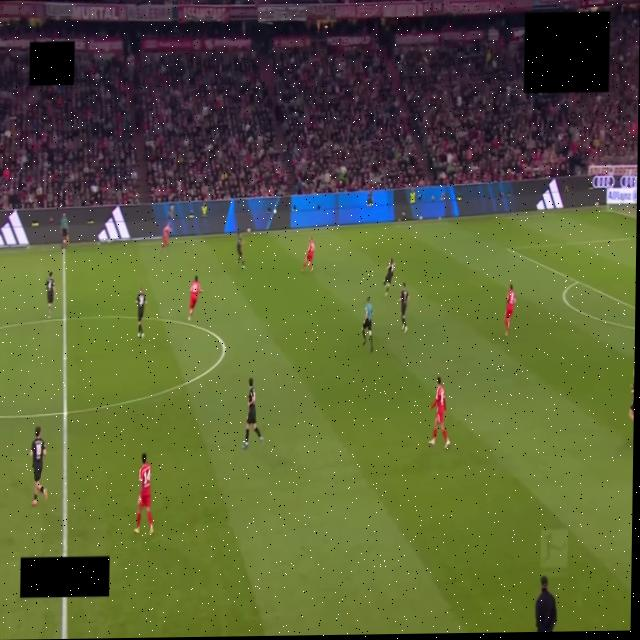ball: (247, 228, 250, 232)
player: (134, 454, 153, 534), (242, 378, 263, 449), (429, 377, 449, 448), (30, 427, 47, 505), (188, 275, 203, 321), (504, 284, 516, 335), (136, 287, 147, 338), (399, 282, 409, 332), (46, 271, 55, 318), (302, 237, 314, 271), (384, 258, 394, 296), (237, 233, 245, 268), (161, 222, 171, 249), (630, 382, 633, 421)
referee: (362, 297, 373, 352)
